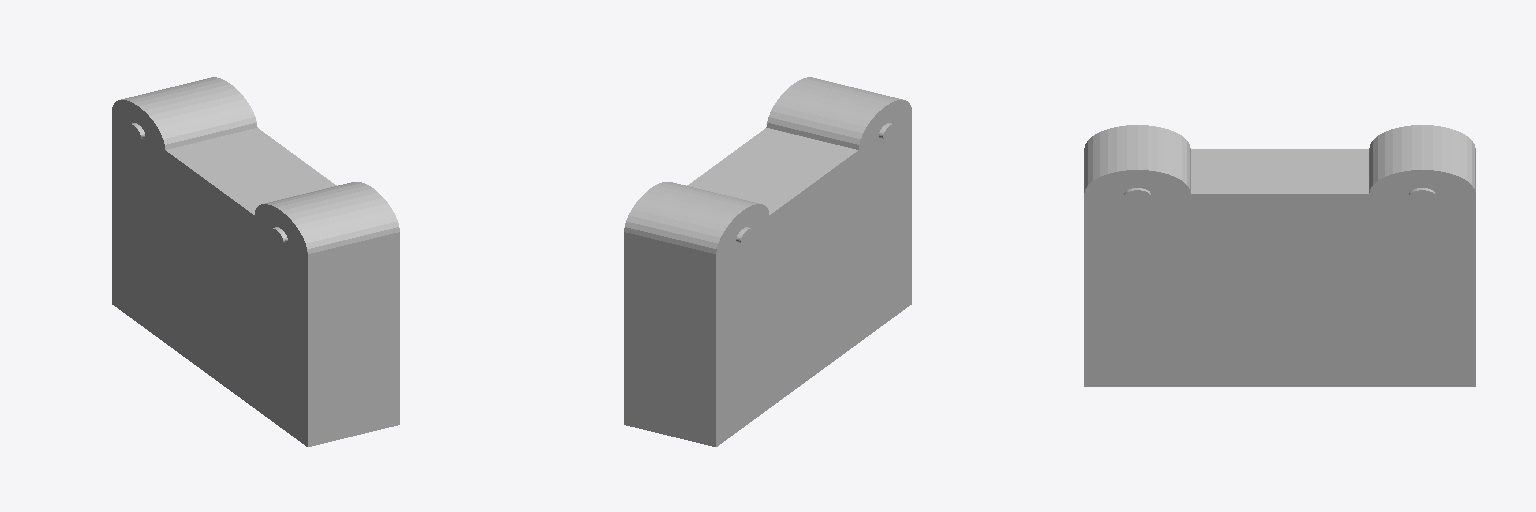
File: body_palm_lpinvrpin.obj
3 views of the same model, side by side, from view 1: azimuth 30°, elevation 25°; view 2: azimuth 150°, elevation 25°; view 3: azimuth 270°, elevation 25° (orthographic).
Parts seen in each view (by area): view 1: body_palm_lpinvrpin.001_Cube.045, right_joint_Cylinder.001, body_palm_lpinvrpin_Cylinder.003; view 2: body_palm_lpinvrpin.001_Cube.045, body_palm_lpinvrpin_Cylinder.003, right_joint_Cylinder.001; view 3: body_palm_lpinvrpin.001_Cube.045, body_palm_lpinvrpin_Cylinder.003, right_joint_Cylinder.001.
Boxes of the visible parts, box(x1,y1,x2,y2) form: body_palm_lpinvrpin.001_Cube.045: box(112, 112, 399, 446); right_joint_Cylinder.001: box(112, 77, 257, 149); body_palm_lpinvrpin_Cylinder.003: box(255, 182, 399, 253); body_palm_lpinvrpin.001_Cube.045: box(624, 112, 911, 446); body_palm_lpinvrpin_Cylinder.003: box(766, 77, 911, 149); right_joint_Cylinder.001: box(624, 182, 768, 253); body_palm_lpinvrpin.001_Cube.045: box(1084, 149, 1475, 386); body_palm_lpinvrpin_Cylinder.003: box(1084, 125, 1190, 201); right_joint_Cylinder.001: box(1369, 125, 1475, 201).
Size of the model in its own units: 0.022 by 0.045 by 0.0735.